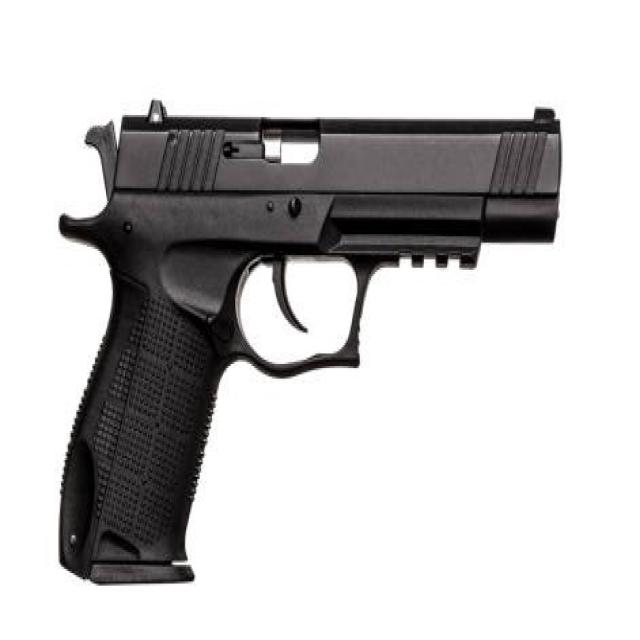pistol: (45, 91, 576, 596)
